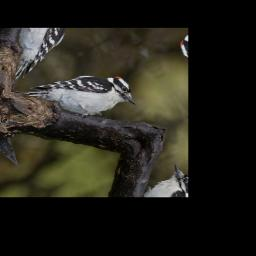Woodpecker: (21, 48, 141, 148)
